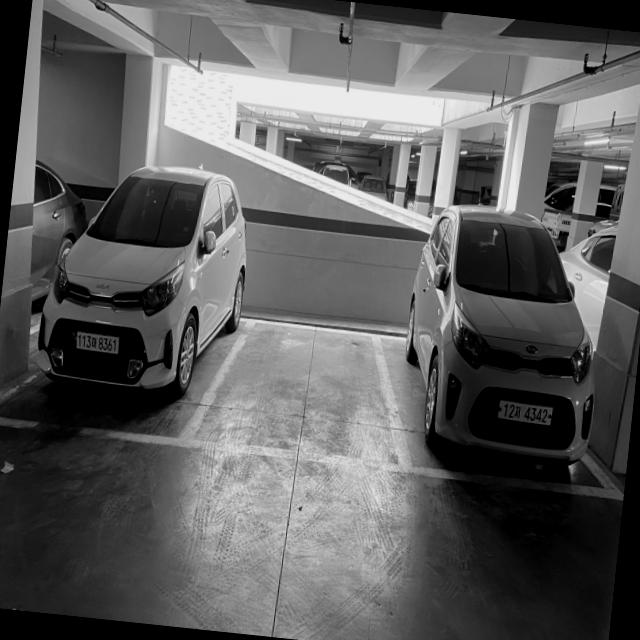car: (401, 199, 616, 471), (32, 150, 253, 406)
free: (173, 312, 416, 478)
